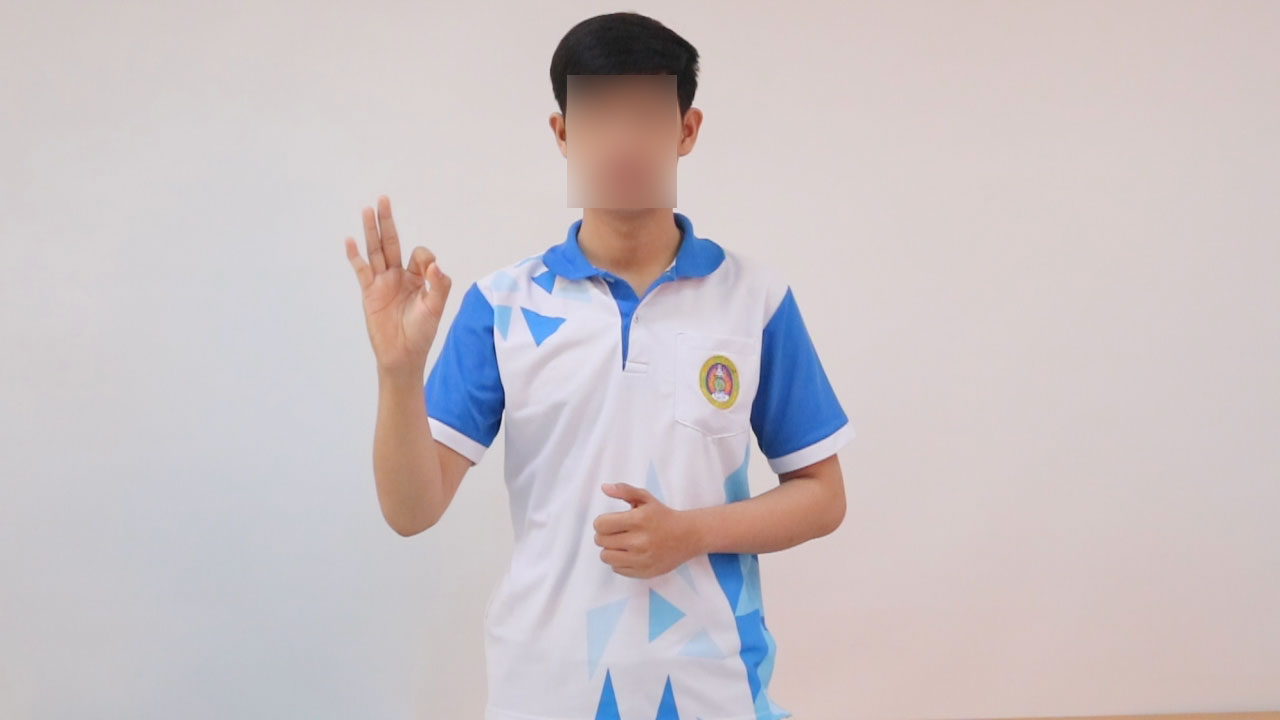for: (330, 181, 461, 389)
